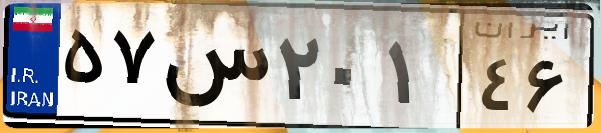0: (330, 28, 385, 110)
1: (385, 28, 445, 110)
2: (270, 28, 330, 110)
4: (475, 38, 525, 113)
5: (57, 26, 110, 100)
6: (525, 38, 570, 115)
7: (110, 28, 158, 98)
س: (158, 20, 270, 120)
